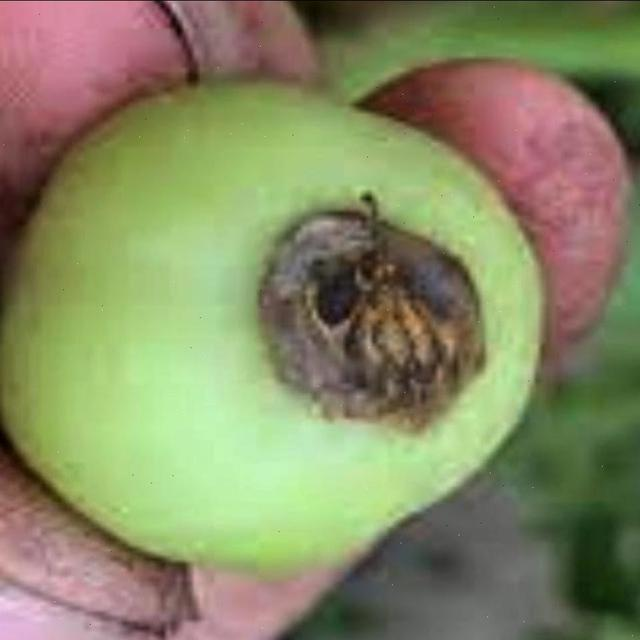Blossom End Rot Fruit: (173, 131, 338, 298)
